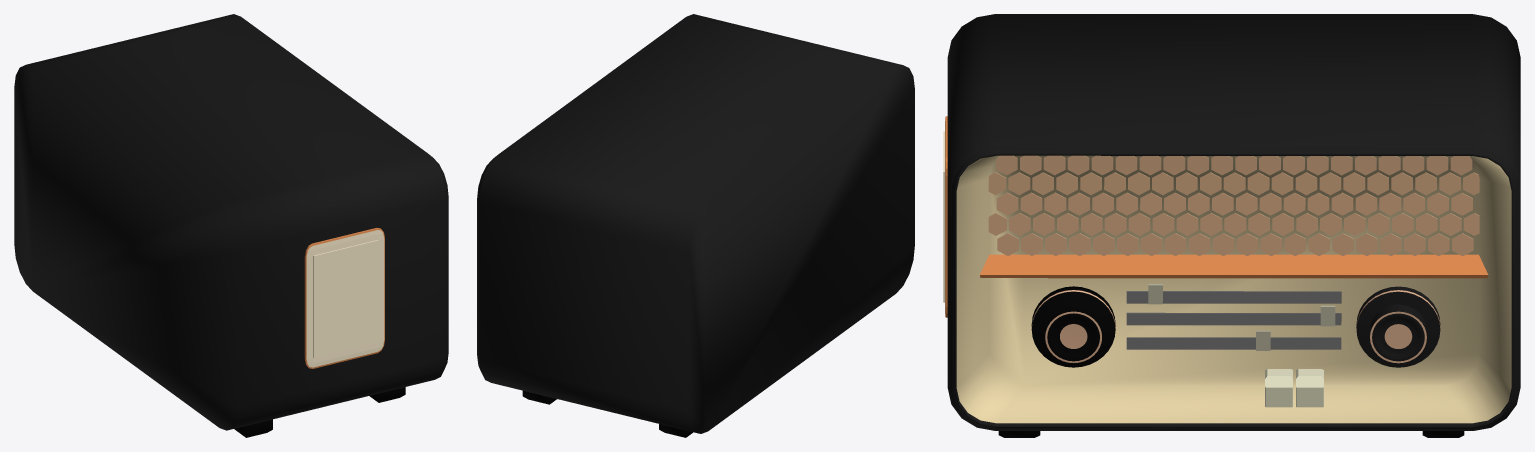
File: Radio.fbx
The picture shows the model from 3 angles, left to right: view 1: azimuth 30°, elevation 25°; view 2: azimuth 150°, elevation 25°; view 3: azimuth 270°, elevation 25°; orthographic projection. The views are drawn at different scales.
Parts seen in each view (by area): view 1: Cube, Cube.013, Cube.012; view 2: Cube; view 3: Cube, Cube.001, Circle.001, Circle.003, Circle.002, Circle.004, Circle, Cylinder, Cylinder.001, Cube.004, Cube.003, Cube.005 (+2 smaller).
Boxes of the visible parts, bbox=[...] form: Cube: bbox=[14, 14, 448, 430]; Cube.013: bbox=[304, 228, 384, 368]; Cube.012: bbox=[234, 419, 272, 437]; Cube: bbox=[477, 14, 914, 433]; Cube: bbox=[947, 14, 1520, 430]; Cube.001: bbox=[980, 254, 1488, 278]; Circle.001: bbox=[988, 172, 1479, 195]; Circle.003: bbox=[988, 213, 1479, 235]; Circle.002: bbox=[996, 192, 1472, 215]; Circle.004: bbox=[997, 233, 1473, 255]; Circle: bbox=[996, 155, 1472, 175]; Cylinder: bbox=[1031, 286, 1115, 367]; Cylinder.001: bbox=[1356, 286, 1440, 367]; Cube.004: bbox=[1126, 312, 1341, 325]; Cube.003: bbox=[1126, 291, 1341, 303]; Cube.005: bbox=[1126, 337, 1341, 349].
Size of the model in its own units: 185 by 200 by 338.
